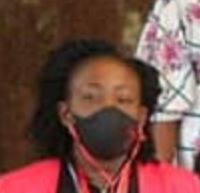with_facemask: (74, 103, 144, 162)
